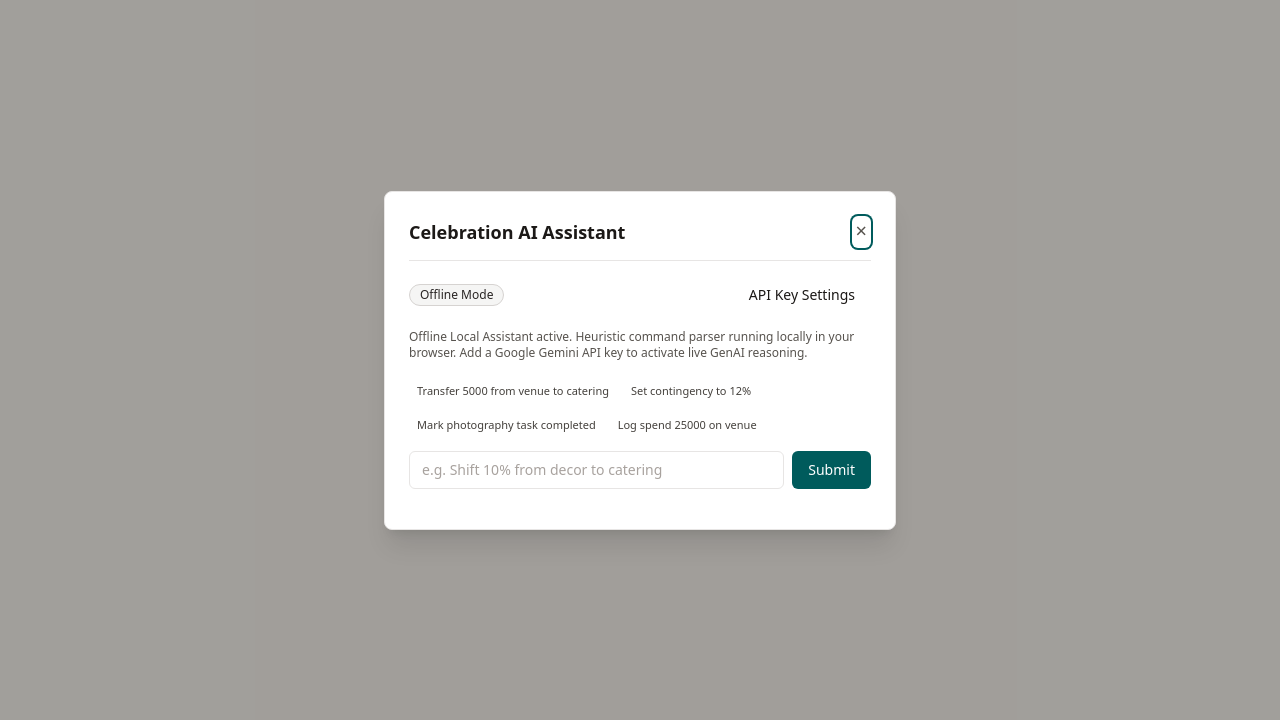
Test: AssistantDrawer component › populates prompt input when quick chip is clicked
What coordinates should you click on to do the following:
click the button "Set contingency to 12%"
I would click on:
 (691, 390)
Its box is top-left (623, 376), bottom-right (759, 404).
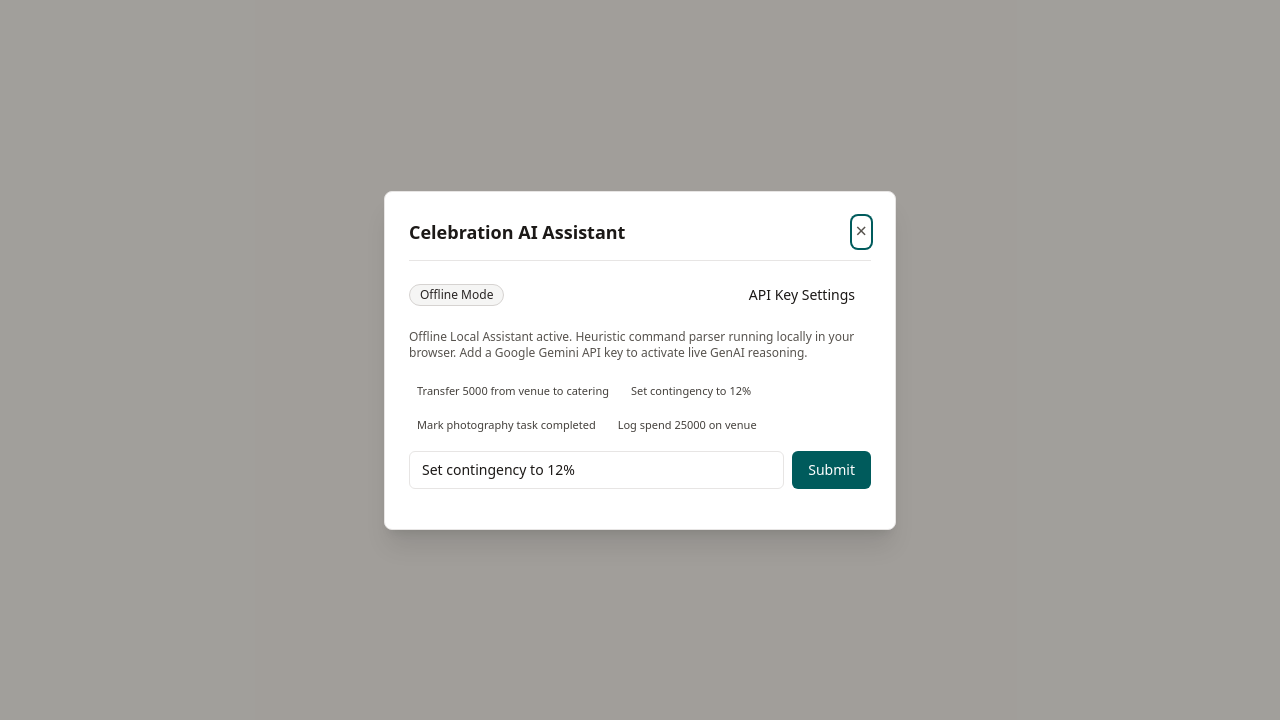
Now the field with placeholder "e.g. Shift 10% from decor to catering" holds "Set contingency to 12%", box top-left (409, 450), bottom-right (784, 488)
